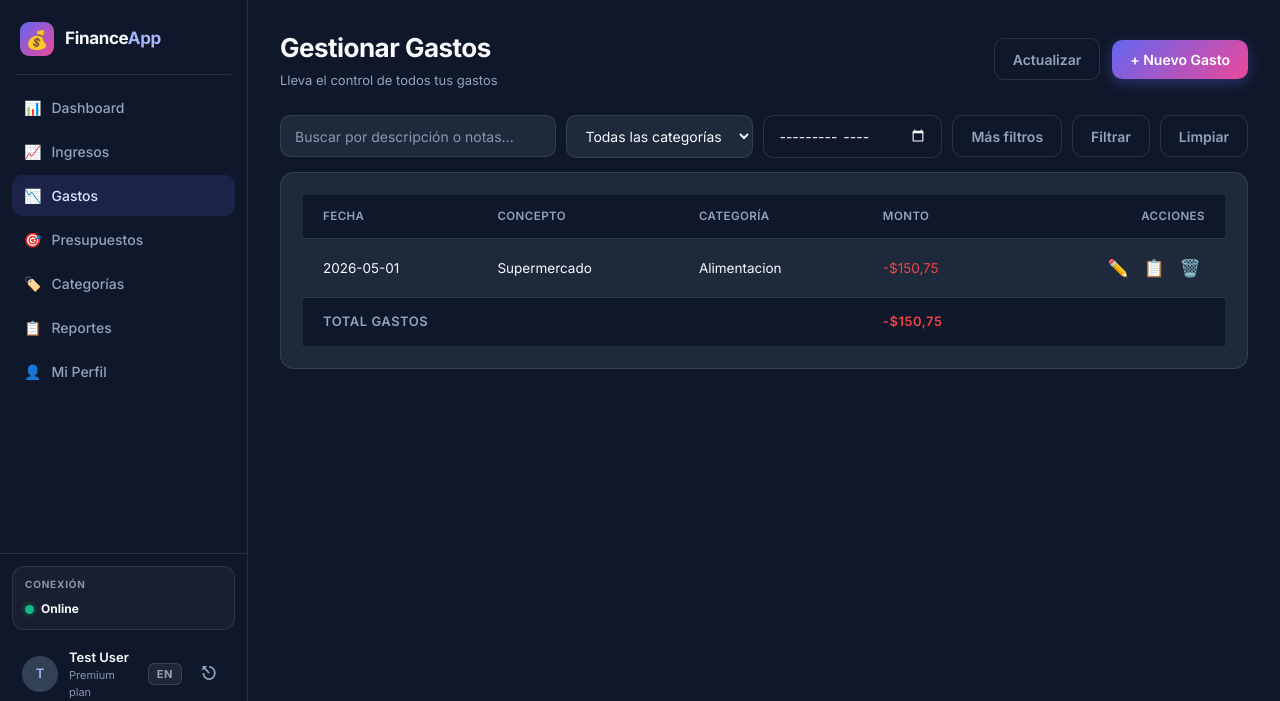
Scenario: CRUD de Gastos (E2E) › Debe validar que el monto sea mayor a 0
The width and height of the screenshot is (1280, 701).
Click the button with test id "new-expense-button" at (1180, 60), box [1112, 40, 1248, 79]
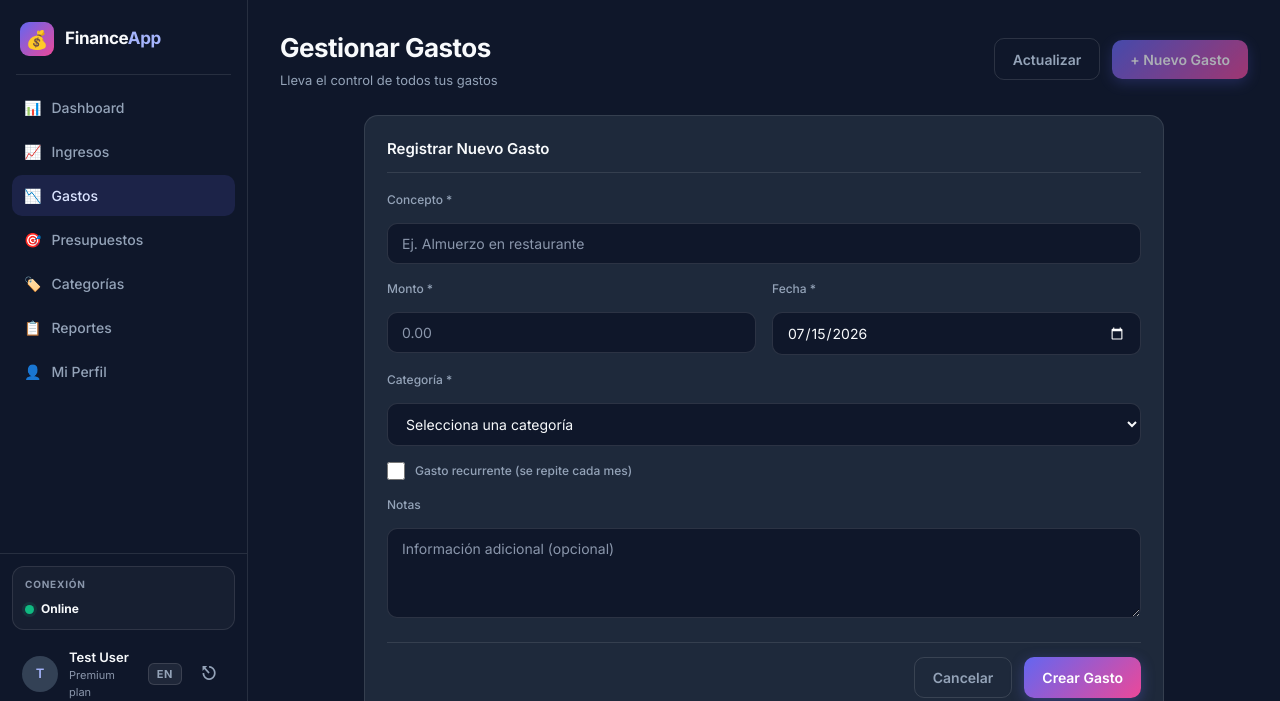
Type "Compra minima" into the field with test id "expense-concept" at (764, 244), box [387, 223, 1141, 264]
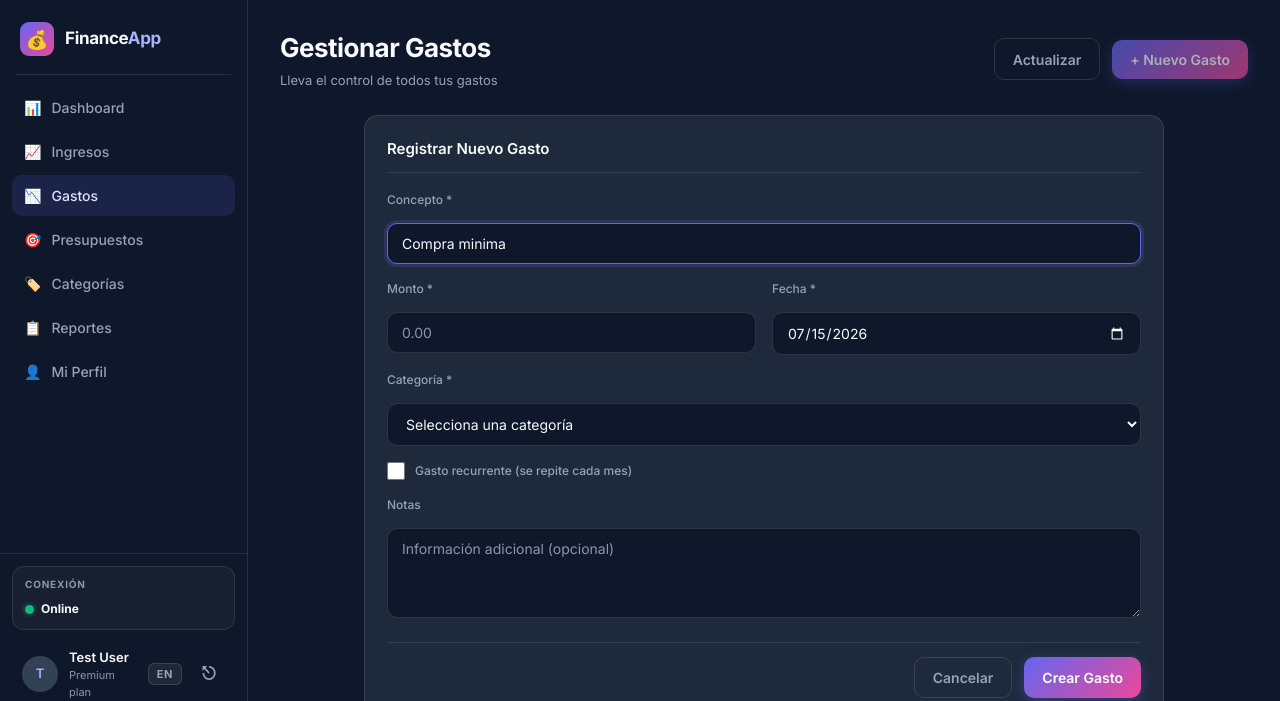
Type "-50" into the field with test id "expense-amount" at (572, 333), box [387, 312, 756, 353]
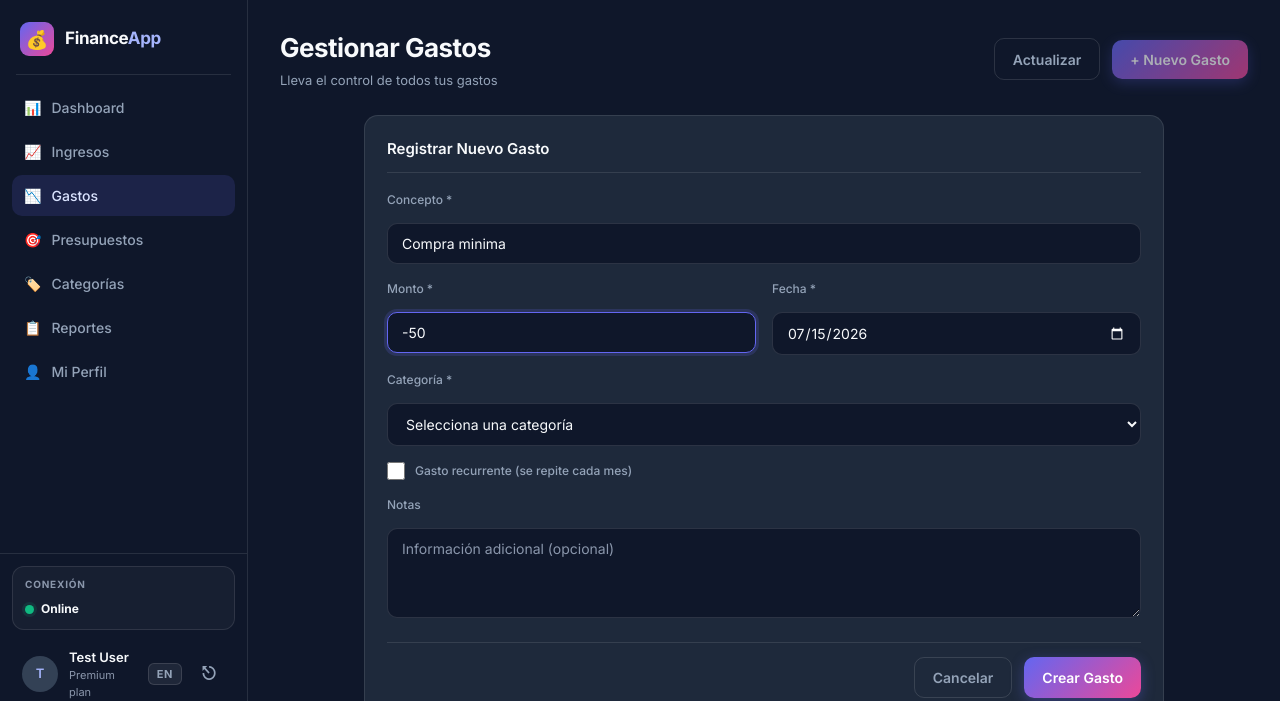
Type "2026-05-15" into the date field with test id "expense-date" at (957, 334), box [772, 312, 1141, 355]
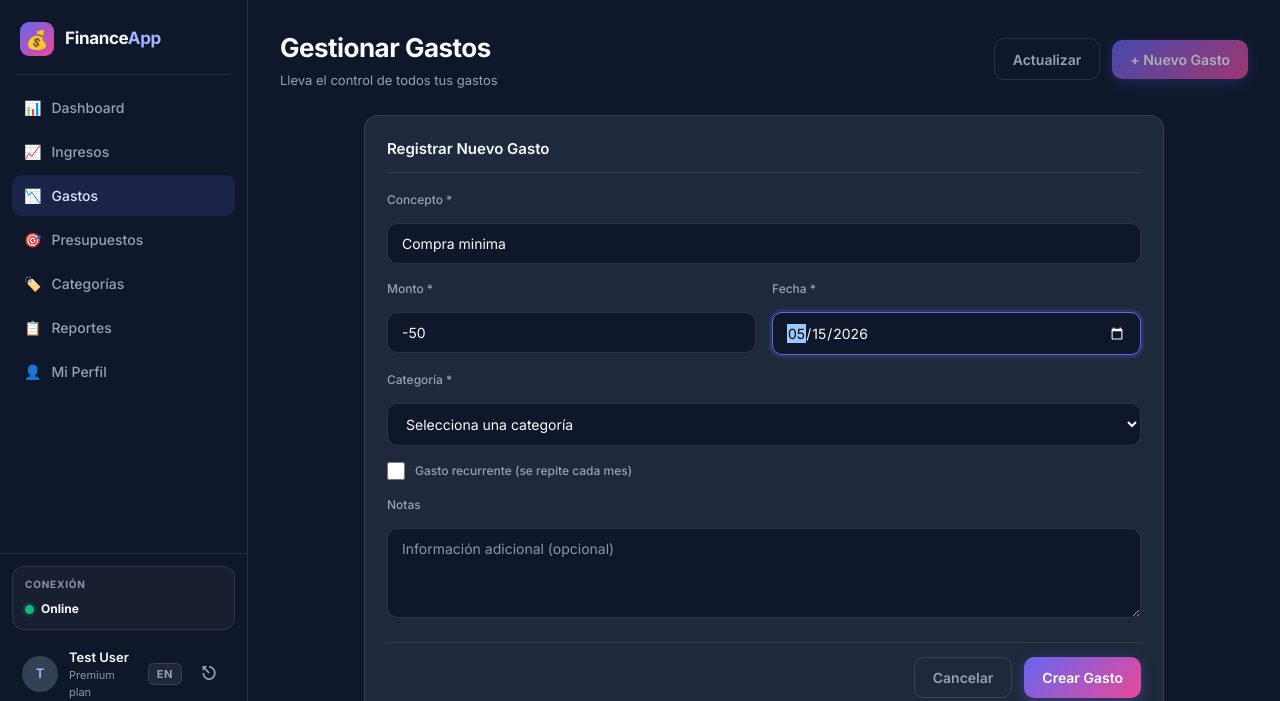
Click the button with test id "expense-submit" at (1083, 678), box [1024, 657, 1141, 698]
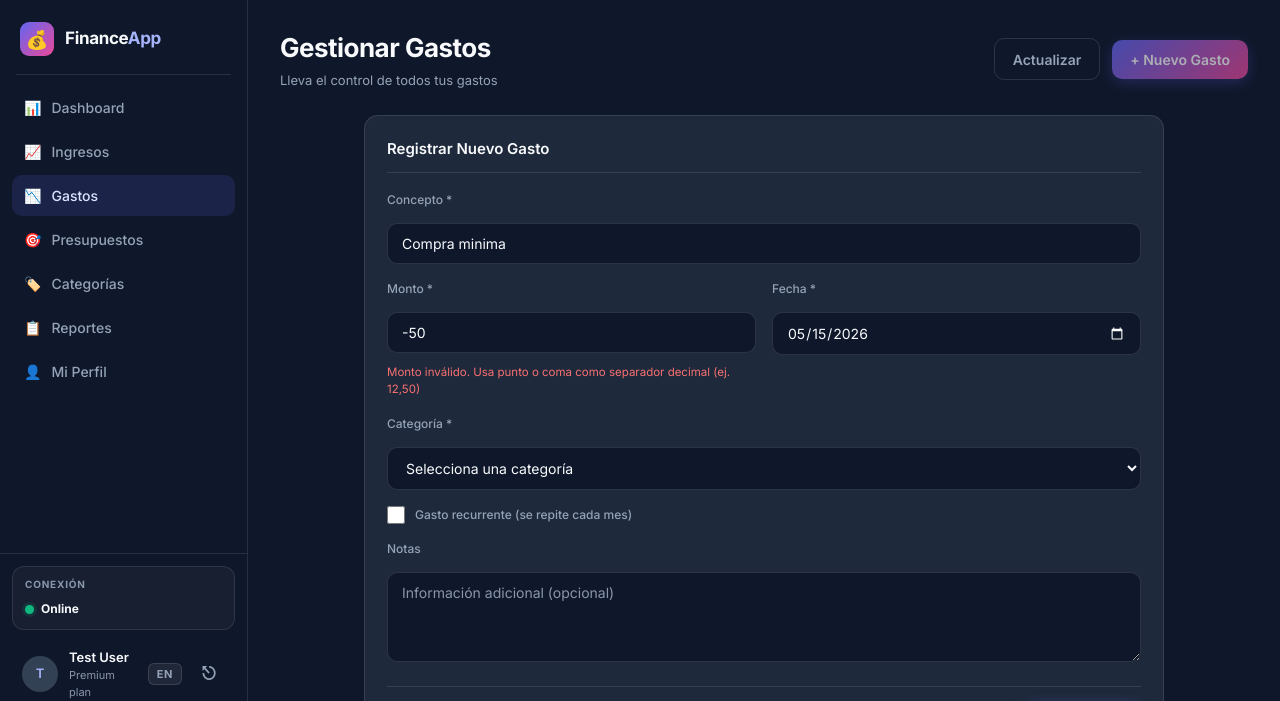
expect the message "Monto inválido. Usa punto o coma como separador decimal (ej. 12,50)" is shown: met, box [387, 364, 756, 398]
